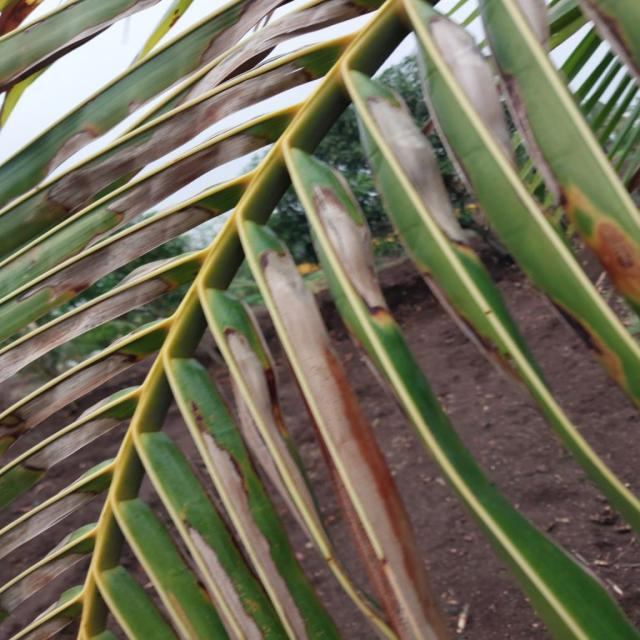gray leaf spot: (5, 0, 555, 625)
